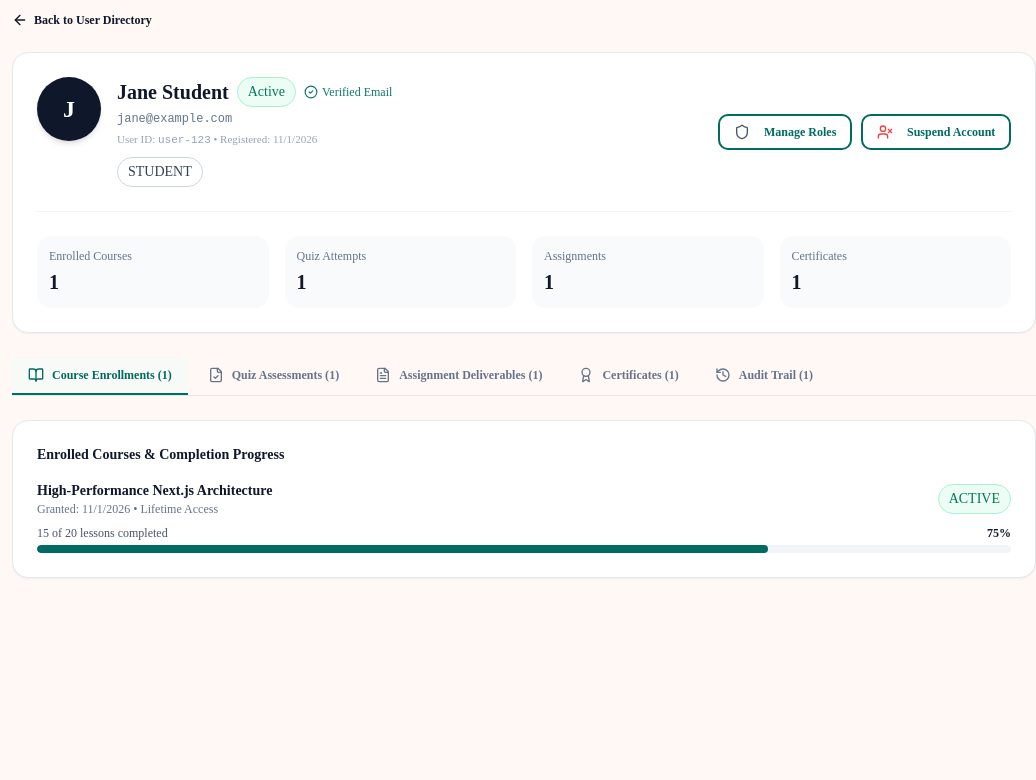
Test: SA-02: Complete User, Admin & Staff Management Unit Tests › Student Profile & Learning History Page Component › renders student academic summary, enrollments, quizzes, assignments, and certificates
Check: the heading "Jane Student" is shown, box [117,78,229,106]
Check: the text "jane@example.com" is shown, box [117,112,232,126]
# Switch to Quizzes tab
Click the button "Quiz Assessments (1)".
click(273, 376)  # box [192,356,355,394]
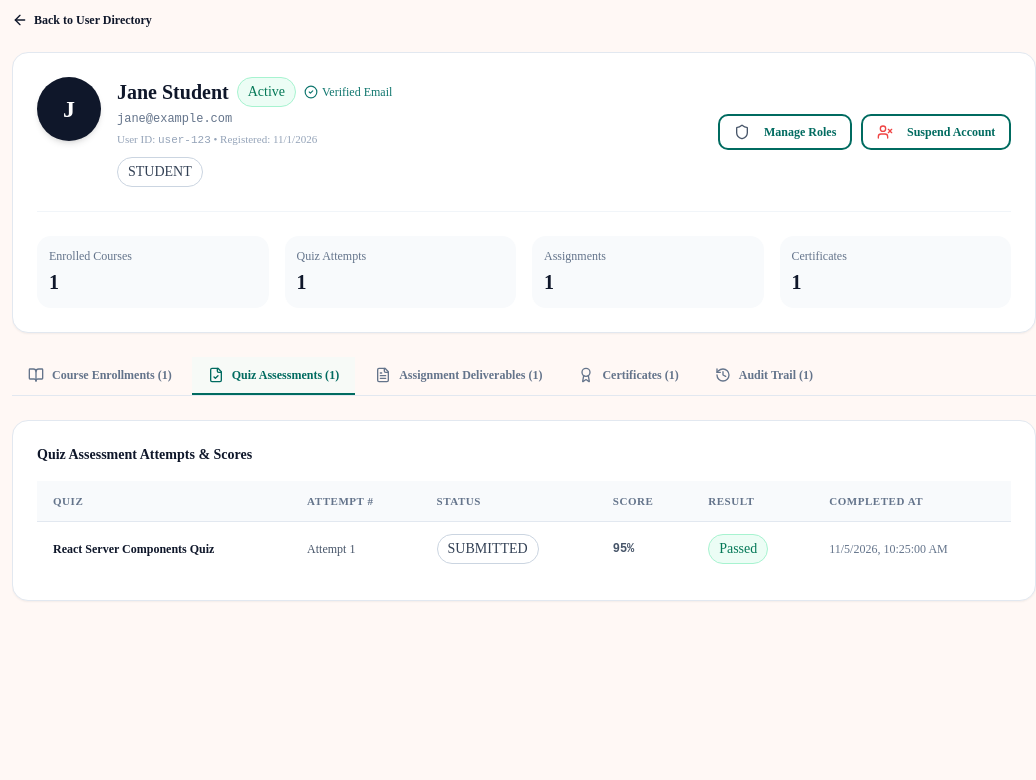
Check: the text "React Server Components Quiz" is shown, box [37,521,291,576]
Check: the text "95%" is shown, box [597,521,692,576]
# Switch to Assignments tab
Click the button "Assignment Deliverables (1)".
click(459, 376)  # box [359,356,558,394]
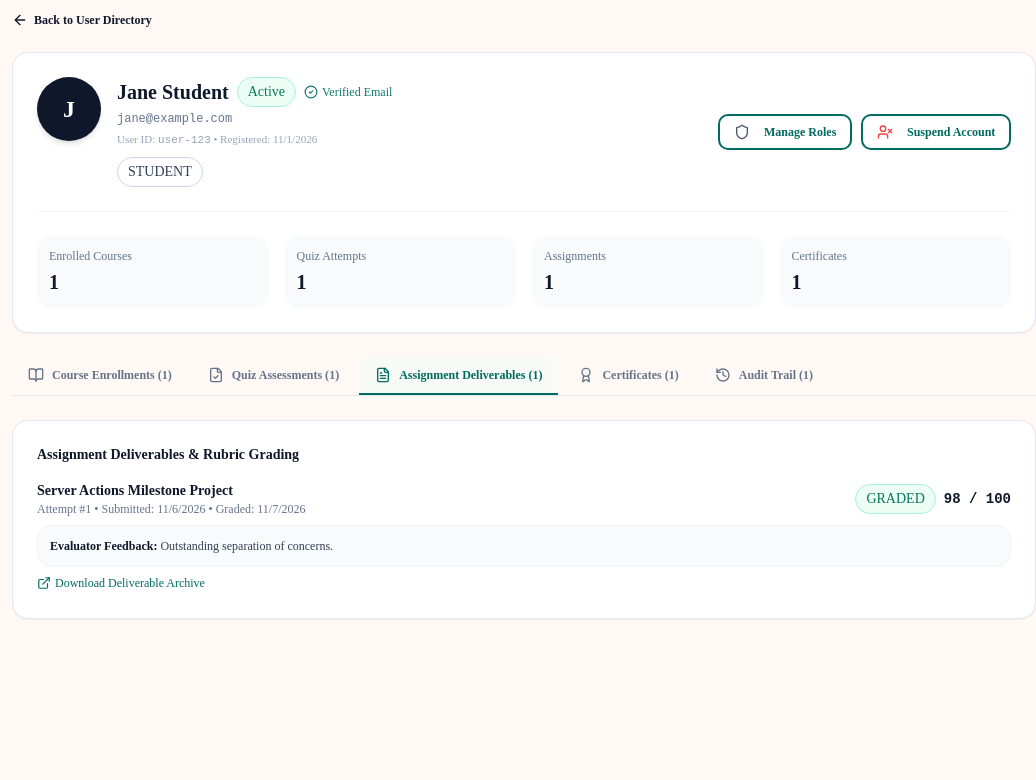
Check: the text "Server Actions Milestone Project" is shown, box [37,482,233,498]
Check: the text "Evaluator Feedback: Outstanding separation of concerns." is shown, box [37,524,1011,566]
# Switch to Certificates tab
Click the button "Certificates (1)".
click(629, 376)  # box [562,356,695,394]
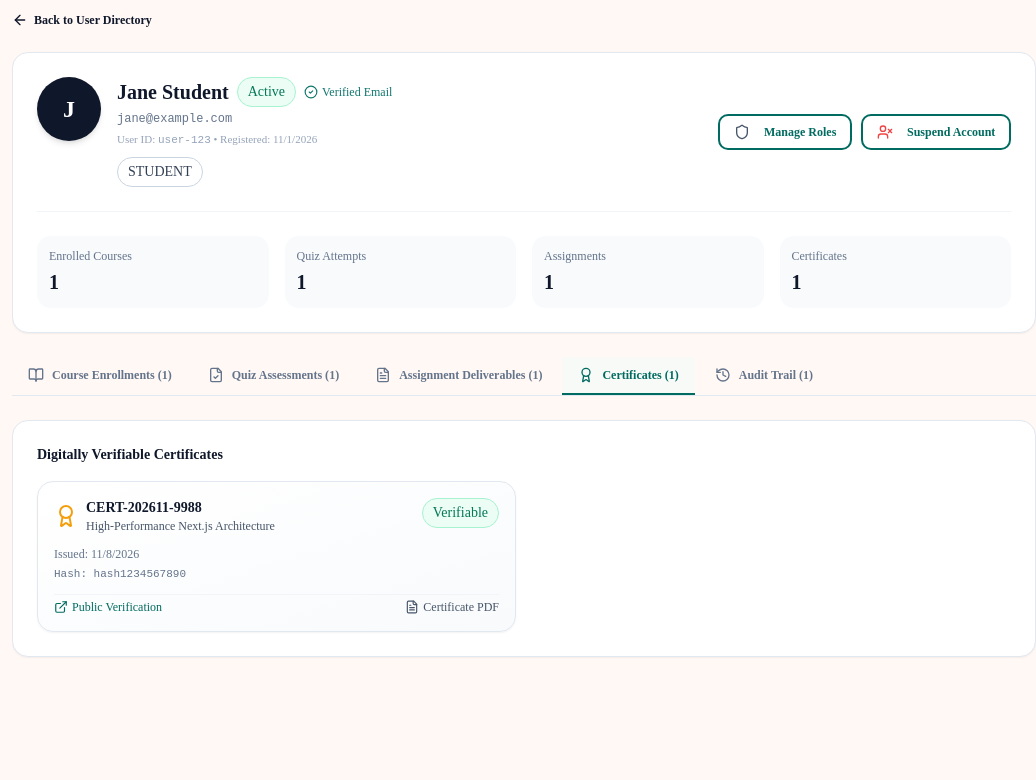
Check: the text "CERT-202611-9988" is shown, box [86,500,202,514]
